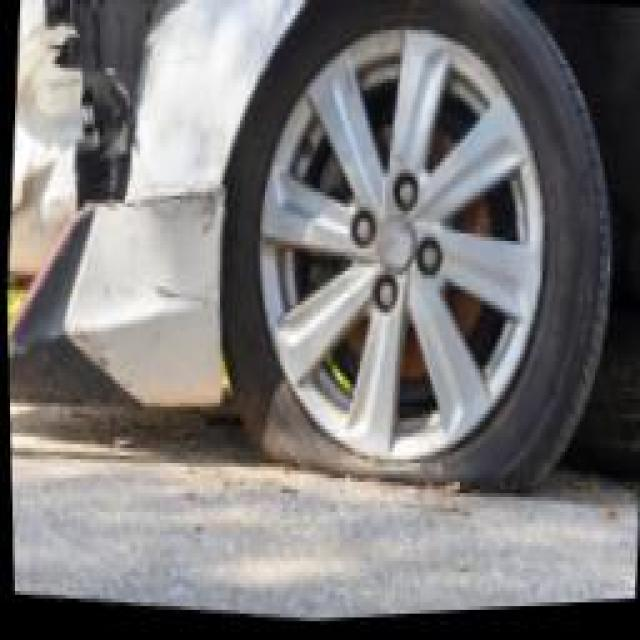Bumper: (0, 0, 254, 452)
